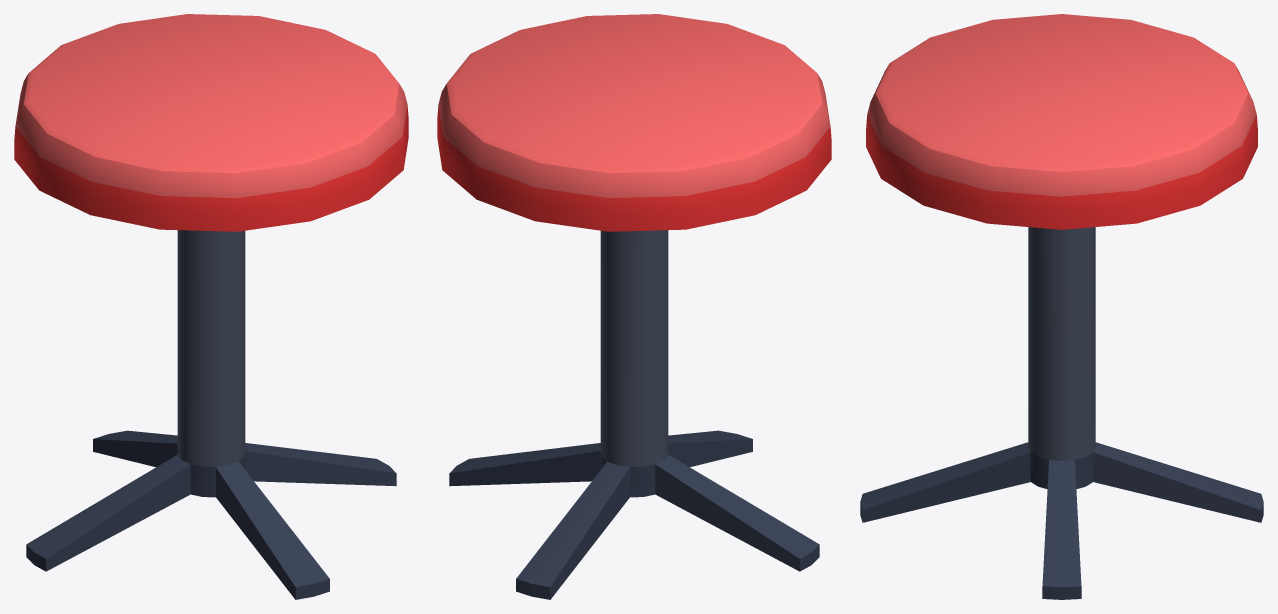
File: Chair.fbx
3 renders of one model, left to right at view 1: azimuth 30°, elevation 25°; view 2: azimuth 150°, elevation 25°; view 3: azimuth 270°, elevation 25°, orthographic.
Parts seen in each view (by area): view 1: Chair; view 2: Chair; view 3: Chair.
Part boxes in pixels (x1,y1,x2,y2): Chair: (14,14,408,599); Chair: (437,14,831,599); Chair: (860,14,1263,599).
Bounding box in the file's own units: 64.98 × 75.38 × 64.98.
